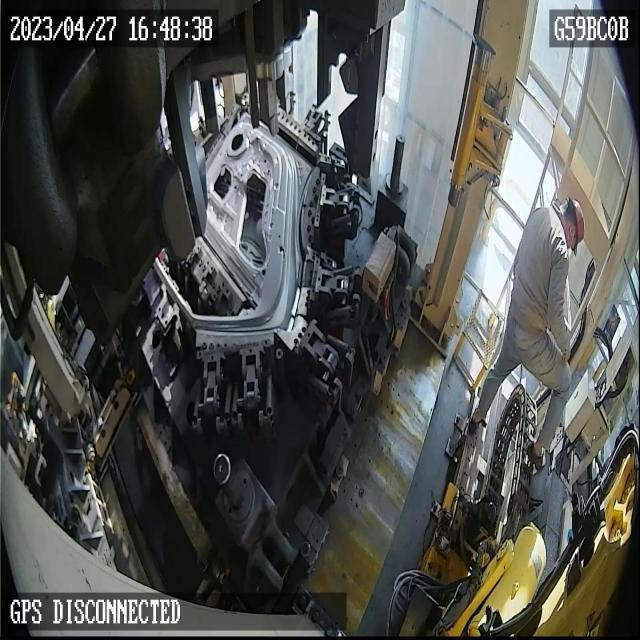Person: (469, 195, 585, 466)
